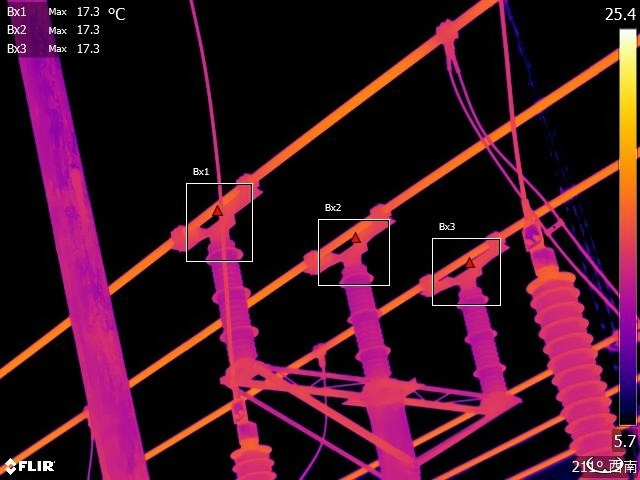clamp: (427, 8, 466, 65), (306, 335, 333, 370)
post insulator: (524, 272, 625, 480), (201, 234, 259, 362), (449, 282, 513, 394), (340, 266, 397, 375), (233, 432, 287, 480)
